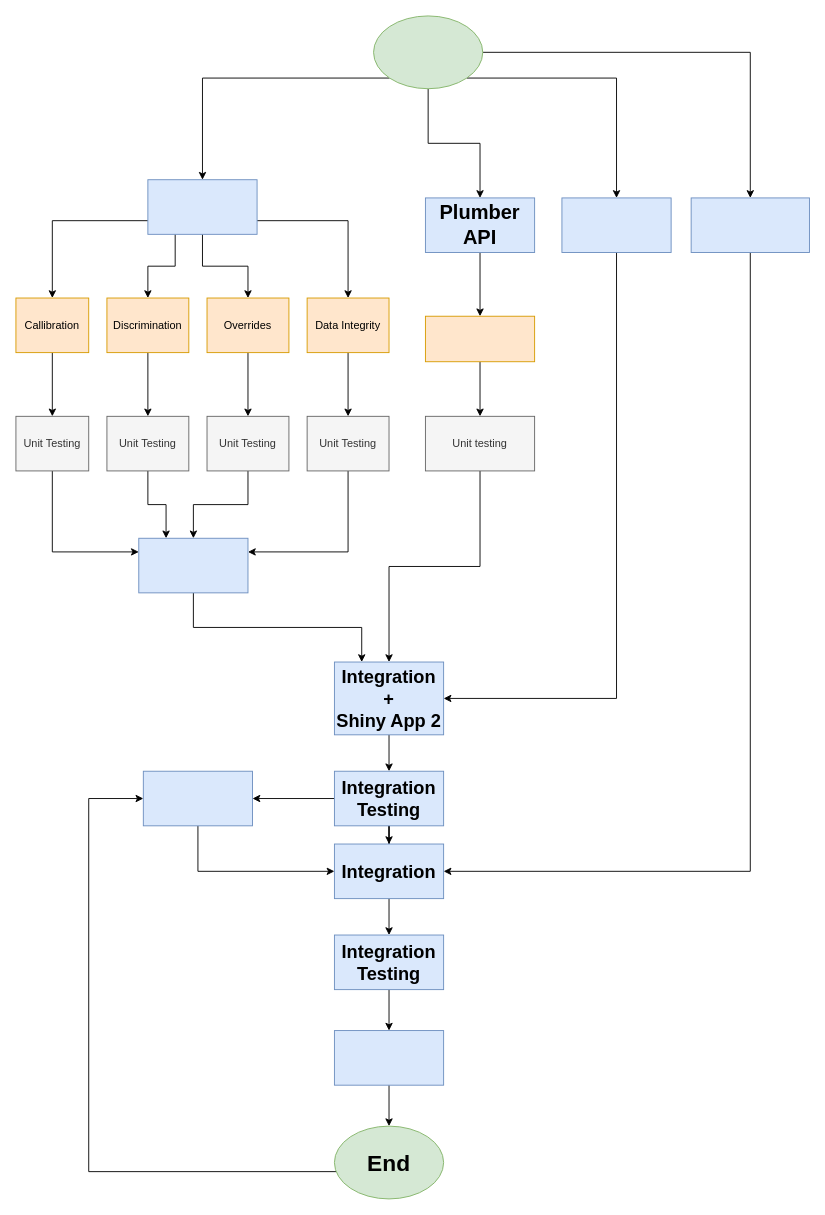
This 825x1215 diagram has some shape labels left out. The box of each missing label's shape, as (x1, y1, x2, y2) in pixels:
Dockerisation: (690, 197, 809, 253)
Metrics: (147, 179, 257, 234)
Plumber functions: (425, 315, 535, 362)
Report Database: (138, 537, 248, 593)
Security + Testing: (334, 1030, 444, 1085)
Shiny App 1: (561, 197, 671, 253)
Start: (373, 15, 483, 89)
User Validation Testing: (142, 770, 253, 826)
